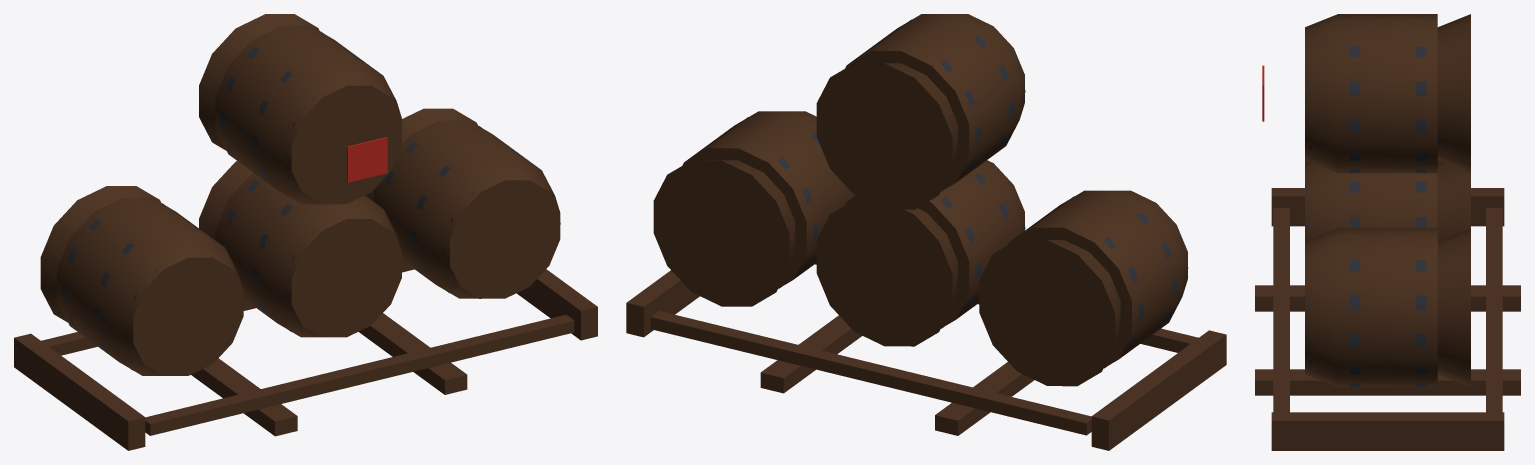
File: barrel_powder_keg_cradle.glb
3 renders of one model, left to right at view 1: azimuth 30°, elevation 25°; view 2: azimuth 150°, elevation 25°; view 3: azimuth 270°, elevation 25°, orthographic. The views are drawn at different scales.
Visible parts, largest first — view 1: barrel_powder_keg_cradle; view 2: barrel_powder_keg_cradle; view 3: barrel_powder_keg_cradle.
Boxes of the visible parts, <box> form: barrel_powder_keg_cradle: <box>14,14,597,450</box>; barrel_powder_keg_cradle: <box>626,14,1226,450</box>; barrel_powder_keg_cradle: <box>1255,14,1520,450</box>.
Size of the model in its own units: 1.66 by 1.09 by 0.8.
